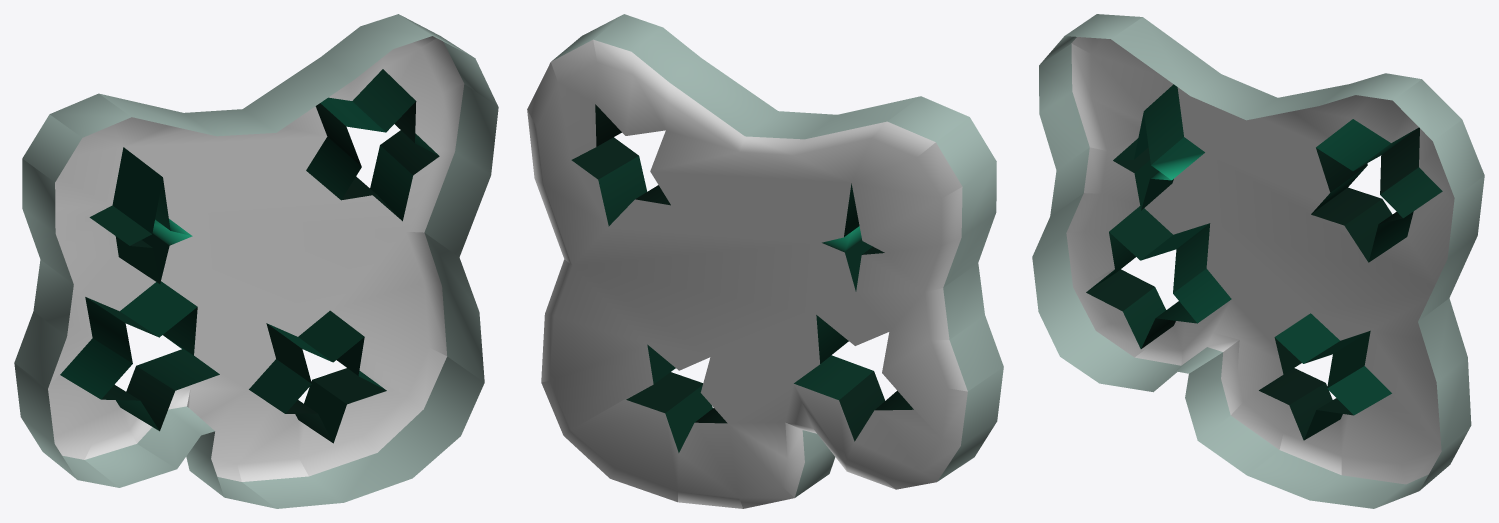
File: ConstallationPlate.fbx
The picture shows the model from 3 angles, left to right: view 1: azimuth 30°, elevation 25°; view 2: azimuth 150°, elevation 25°; view 3: azimuth 330°, elevation 25°; orthographic projection. The views are drawn at different scales.
Visible parts, largest first — view 1: ConstallationPlate; view 2: ConstallationPlate; view 3: ConstallationPlate.
Part boxes in pixels (bbox=[...]): ConstallationPlate: bbox=[14, 14, 498, 508]; ConstallationPlate: bbox=[527, 14, 1003, 508]; ConstallationPlate: bbox=[1032, 14, 1484, 508].
Size of the model in its own units: 60.55 by 57.39 by 9.51.
